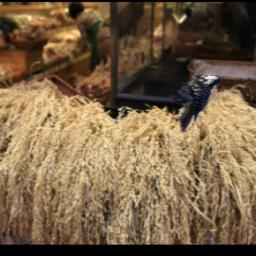Woodpecker: (170, 72, 220, 134)
